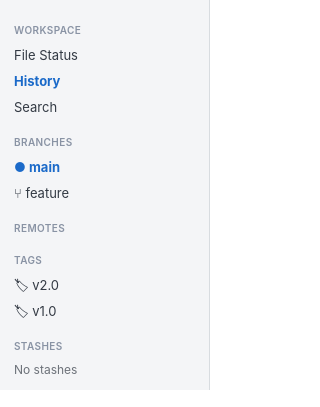
Test: Sidebar tags › offers checkout and delete for a tag
The width and height of the screenshot is (320, 407).
Right-click the text "🏷 v1.0" at point(35, 311), box [14,303,56,319]
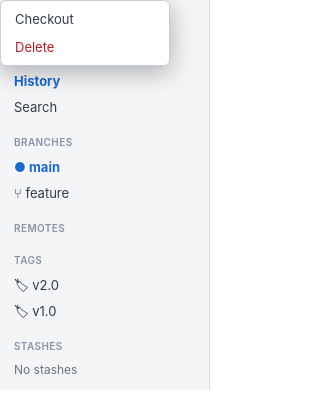
Expected: the text "Checkout" is shown, [15,11,74,27]
Expected: the text "Delete" is shown, [15,39,54,55]
